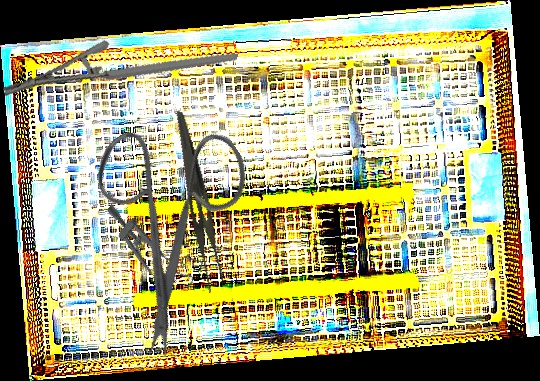Dressing Forceps: (156, 109, 235, 296)
Iris Scissors: (38, 85, 313, 366)
Needle Holder: (1, 11, 239, 138)
Speculum: (92, 197, 207, 298)
